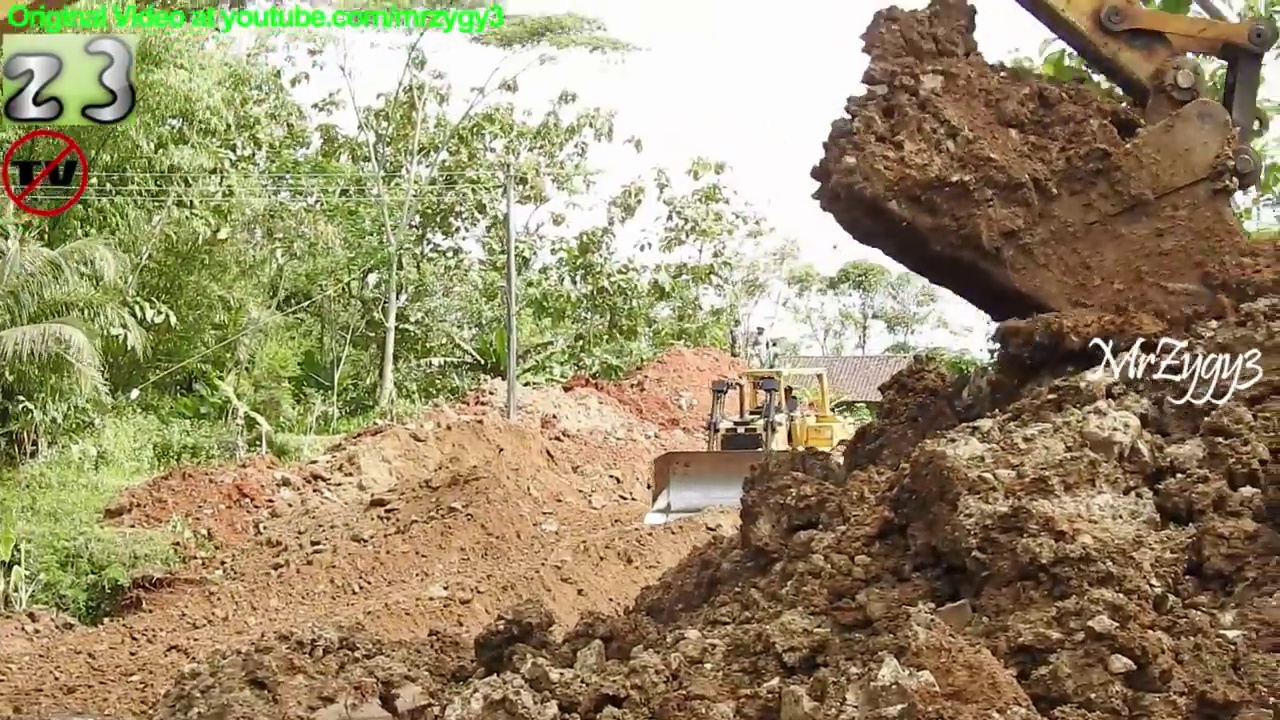bulldozer: (652, 361, 853, 542)
excavator: (807, 1, 1269, 339)
